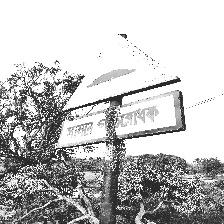Speed-breaker: (56, 29, 183, 146)
